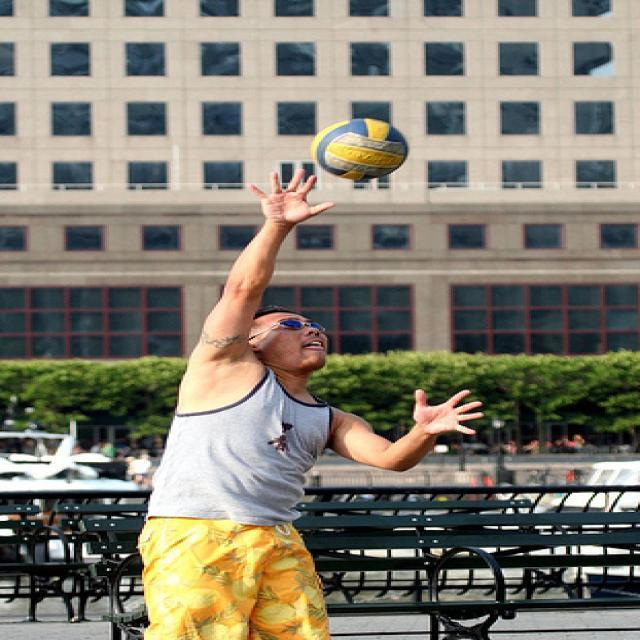volleyball: (312, 117, 408, 181)
